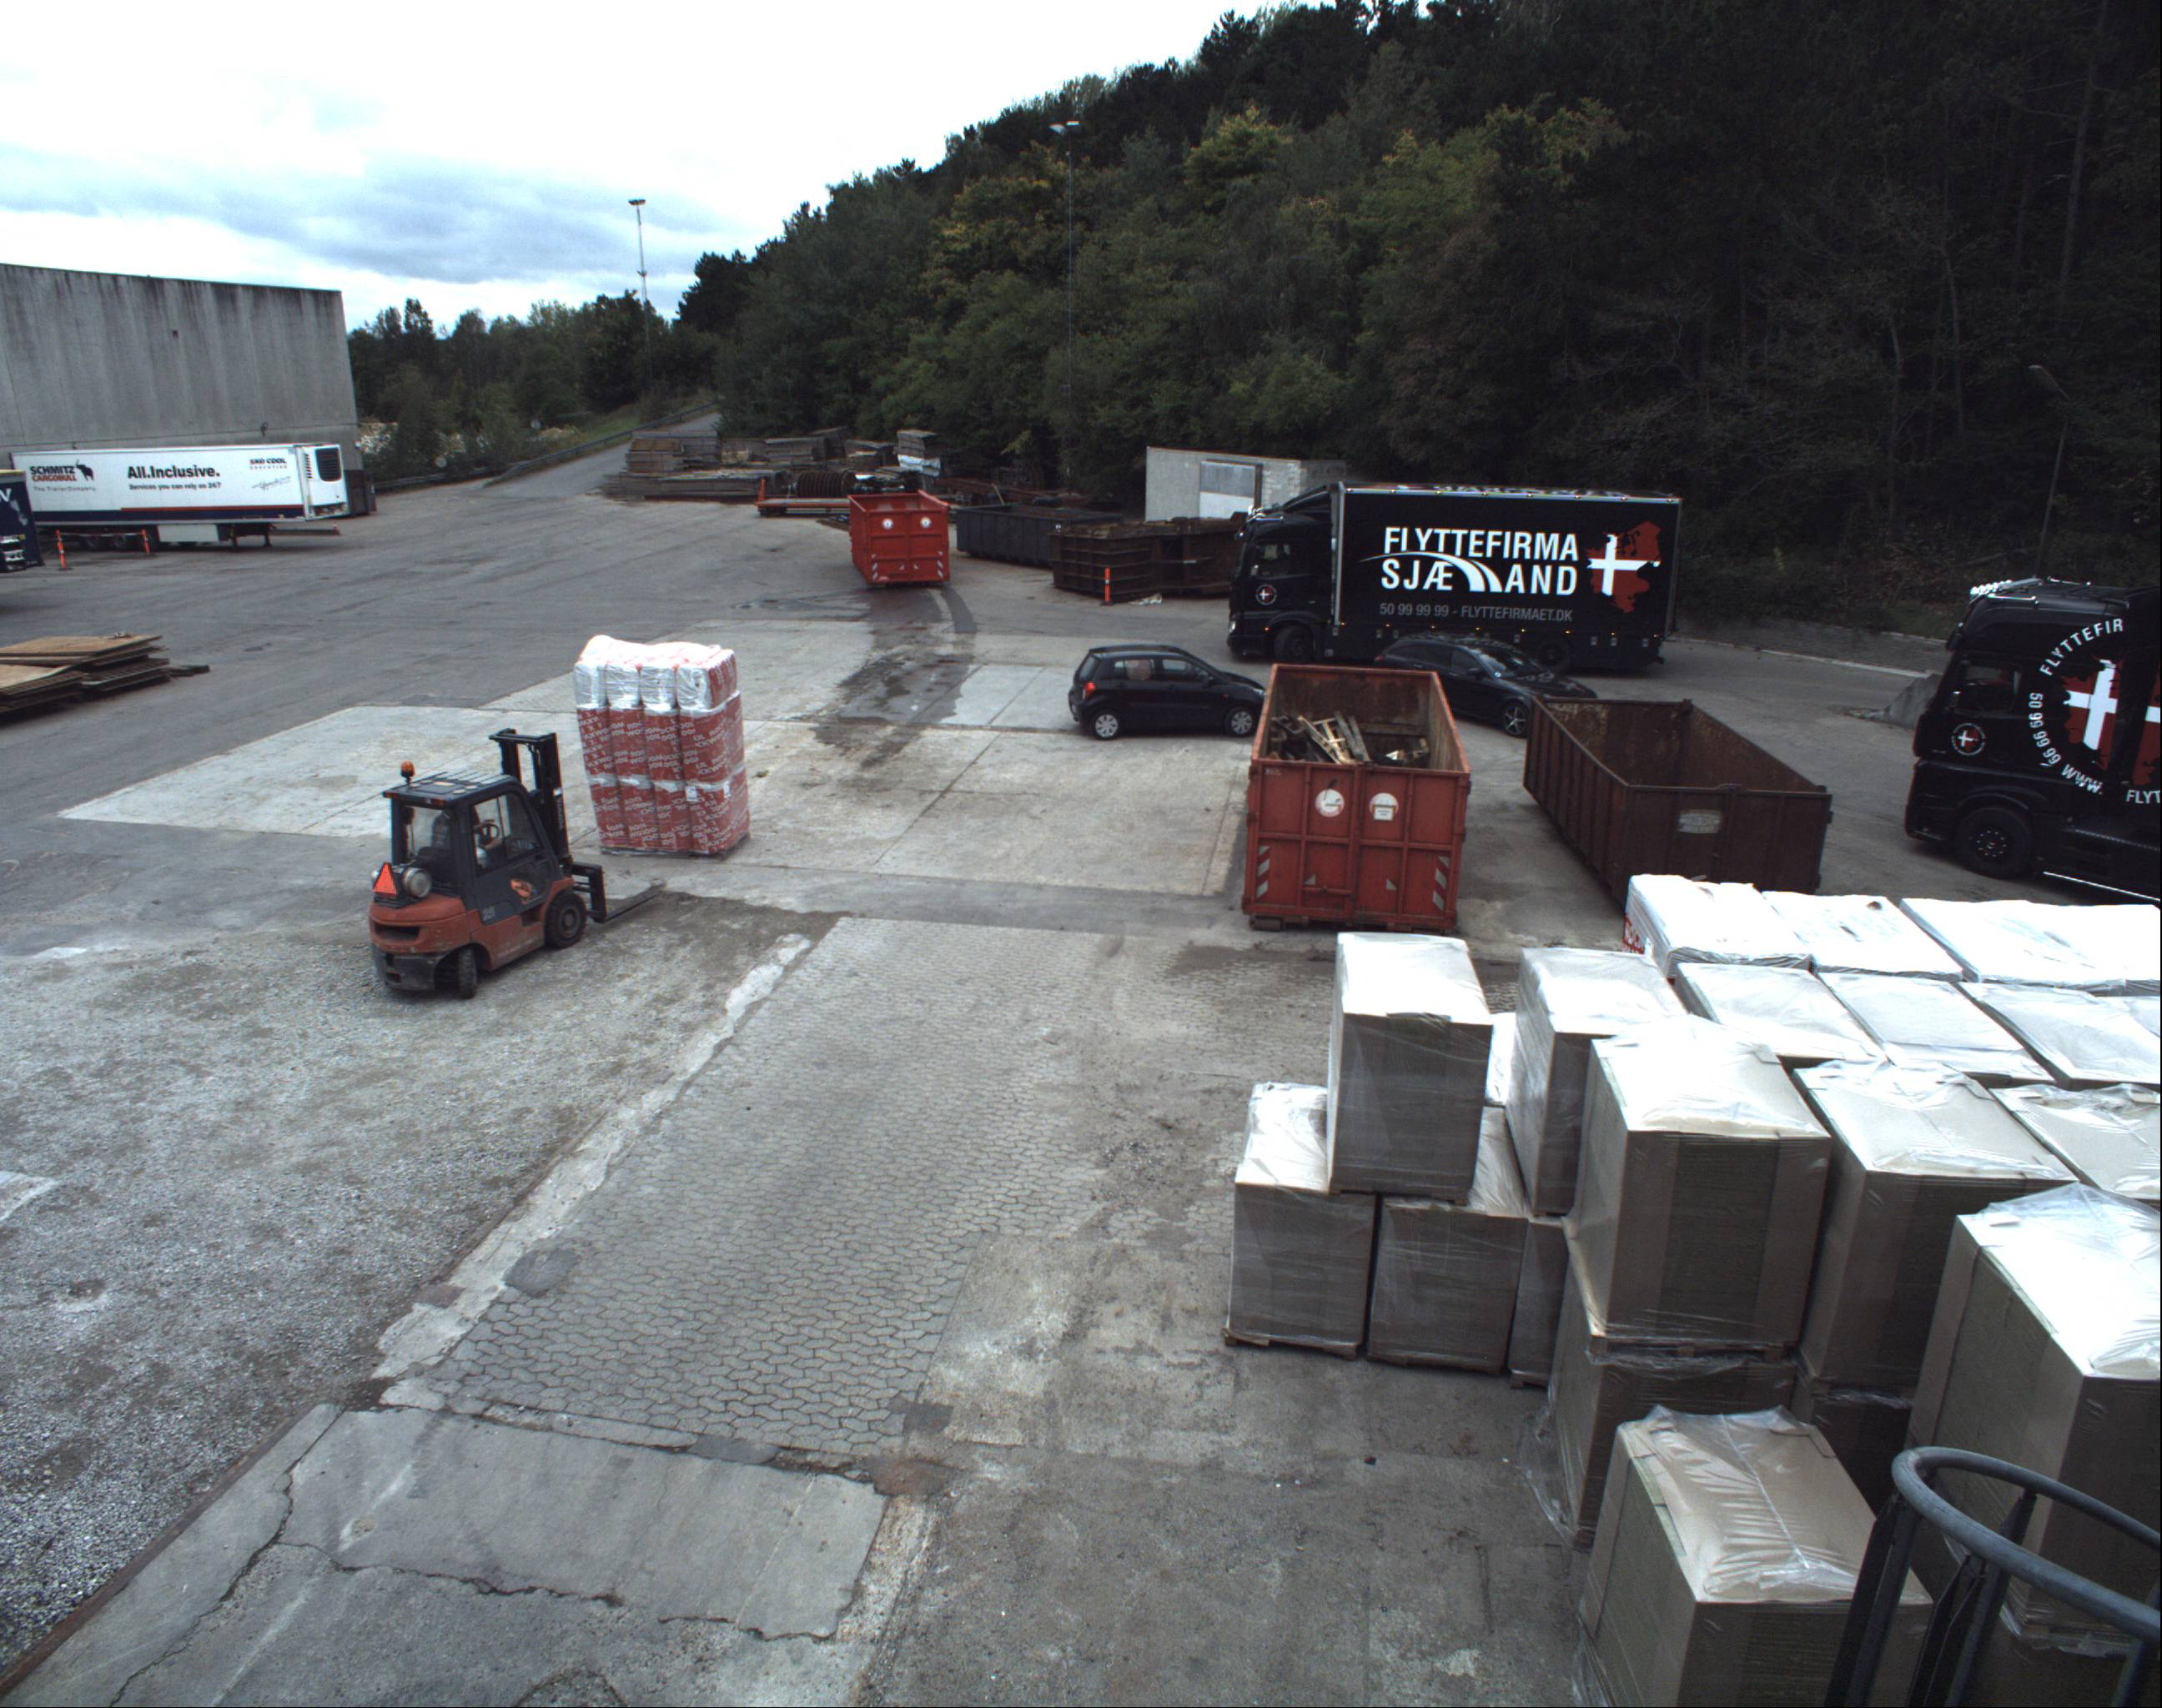rockwool_batts: (572, 634, 744, 858)
